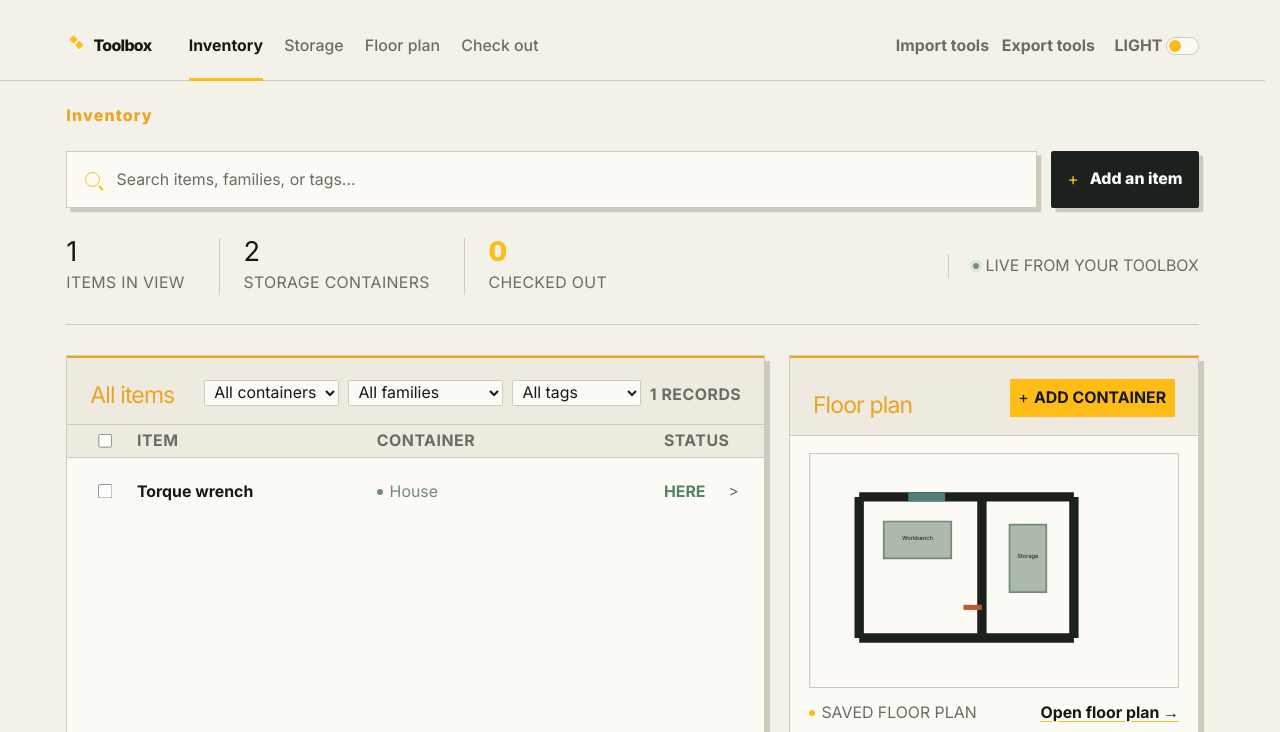
Test case: inventory navigation › opens the item management page as a subpage
expect the text "Torque wrench" is shown: met, box [137,482,253,501]
Click the button "Add an item".
click(1125, 179)  # box [1051,151,1199,208]
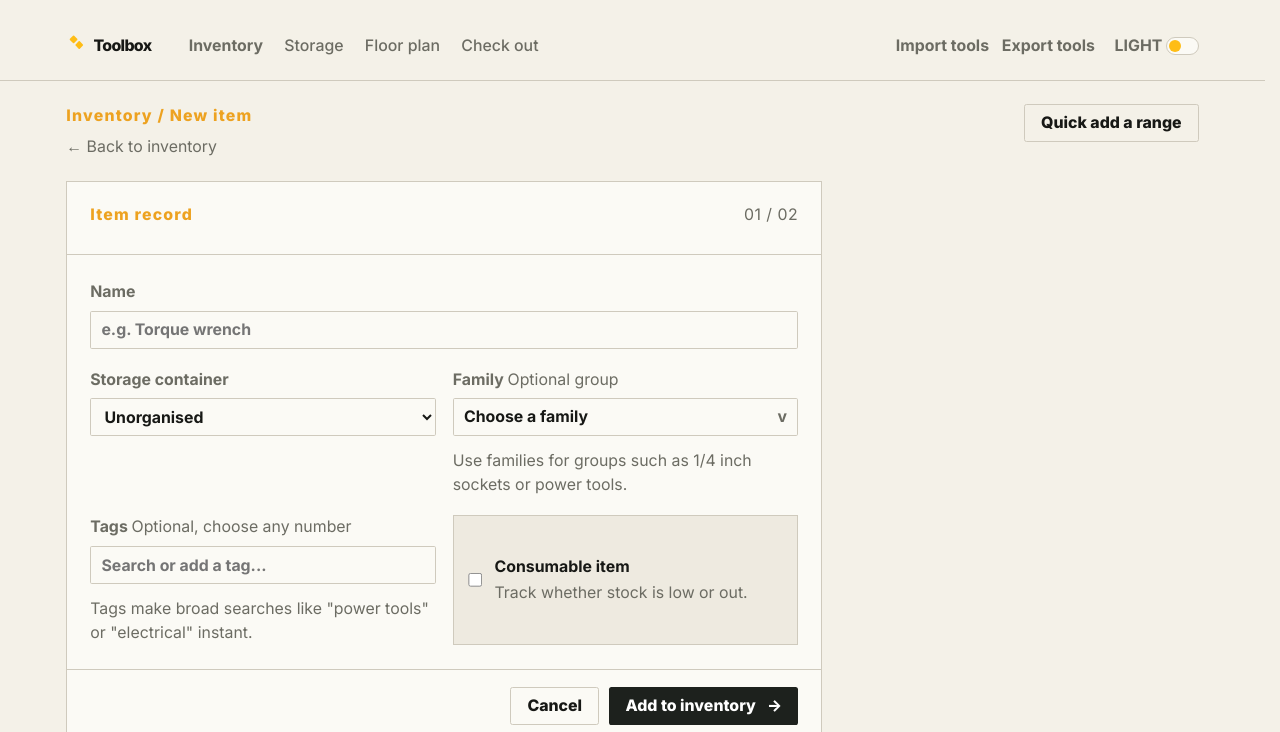
expect the heading "Inventory / New item" is shown: met, box [66,104,252,128]
expect the field labelled "Name" is shown: met, box [90,311,798,349]
expect the dropdown labelled "Storage container" shows "Unorganised": met, box [90,398,436,436]
